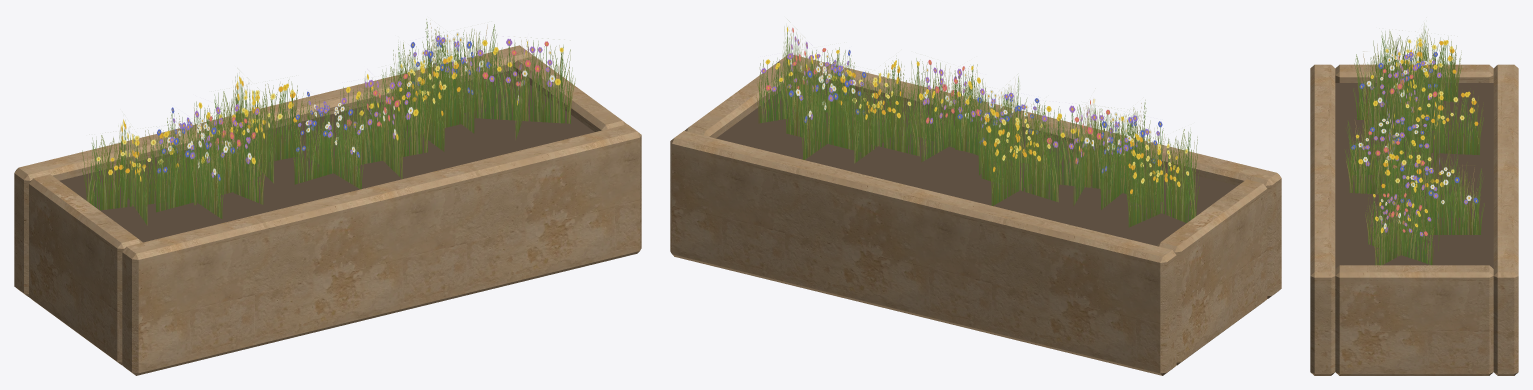
The model's file is flower-bed.glb.
3 renders of one model, left to right at view 1: azimuth 30°, elevation 25°; view 2: azimuth 150°, elevation 25°; view 3: azimuth 270°, elevation 25°, orthographic. The views are drawn at different scales.
Visible parts, largest first — view 1: flower-bed, flower-bed-soil, flower-bed-flowers2, flower-bed-flowers1, flower-bed-flowers0; view 2: flower-bed, flower-bed-soil, flower-bed-flowers0, flower-bed-flowers2, flower-bed-flowers1; view 3: flower-bed, flower-bed-soil, flower-bed-flowers2, flower-bed-flowers0, flower-bed-flowers1.
Boxes of the visible parts, x1,y1,x2,y2 form: flower-bed: (14, 45, 641, 375); flower-bed-soil: (59, 70, 594, 242); flower-bed-flowers2: (190, 38, 575, 205); flower-bed-flowers1: (150, 19, 497, 218); flower-bed-flowers0: (82, 42, 466, 225); flower-bed: (670, 55, 1281, 375); flower-bed-soil: (716, 79, 1237, 245); flower-bed-flowers0: (833, 58, 1199, 227); flower-bed-flowers2: (756, 27, 1135, 205); flower-bed-flowers1: (782, 50, 1168, 209); flower-bed: (1310, 64, 1518, 375); flower-bed-soil: (1335, 83, 1493, 268); flower-bed-flowers2: (1346, 54, 1445, 265); flower-bed-flowers0: (1373, 26, 1483, 217); flower-bed-flowers1: (1344, 45, 1484, 250).
Bounding box in the file's own units: 2.4 × 0.8842 × 1.
5 materials, 4 textured.
